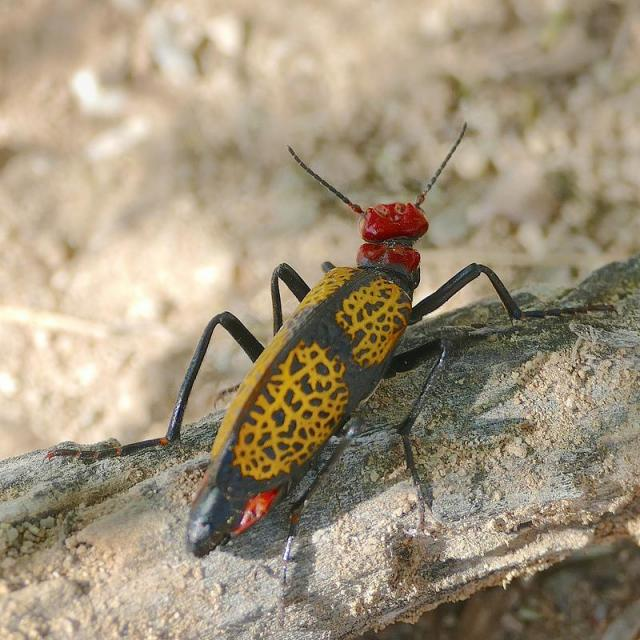BlisterBeetle-Adult-: (159, 113, 567, 574)
